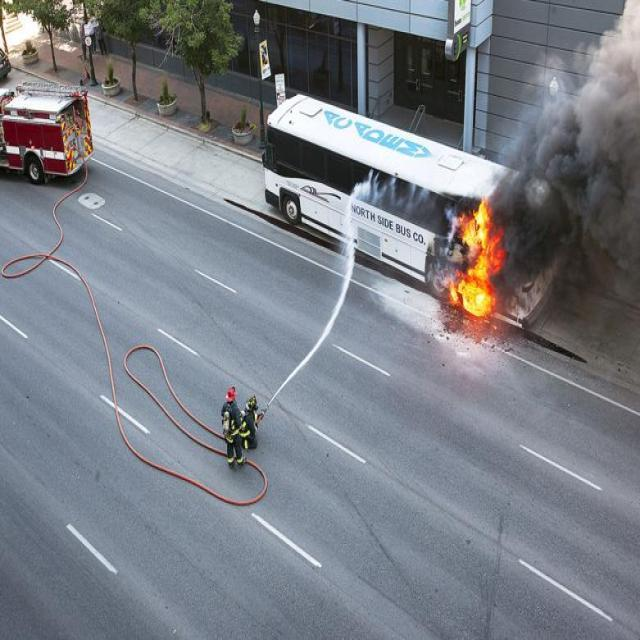Fire: (448, 198, 509, 320)
Smoke: (491, 0, 640, 300)
